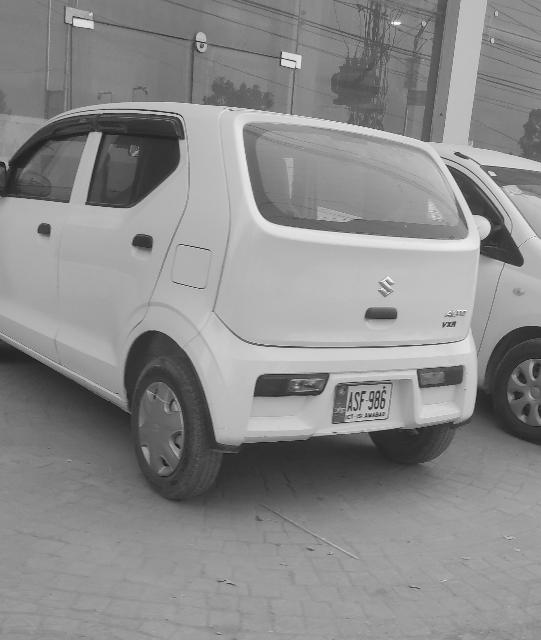Number: (346, 389, 388, 413)
